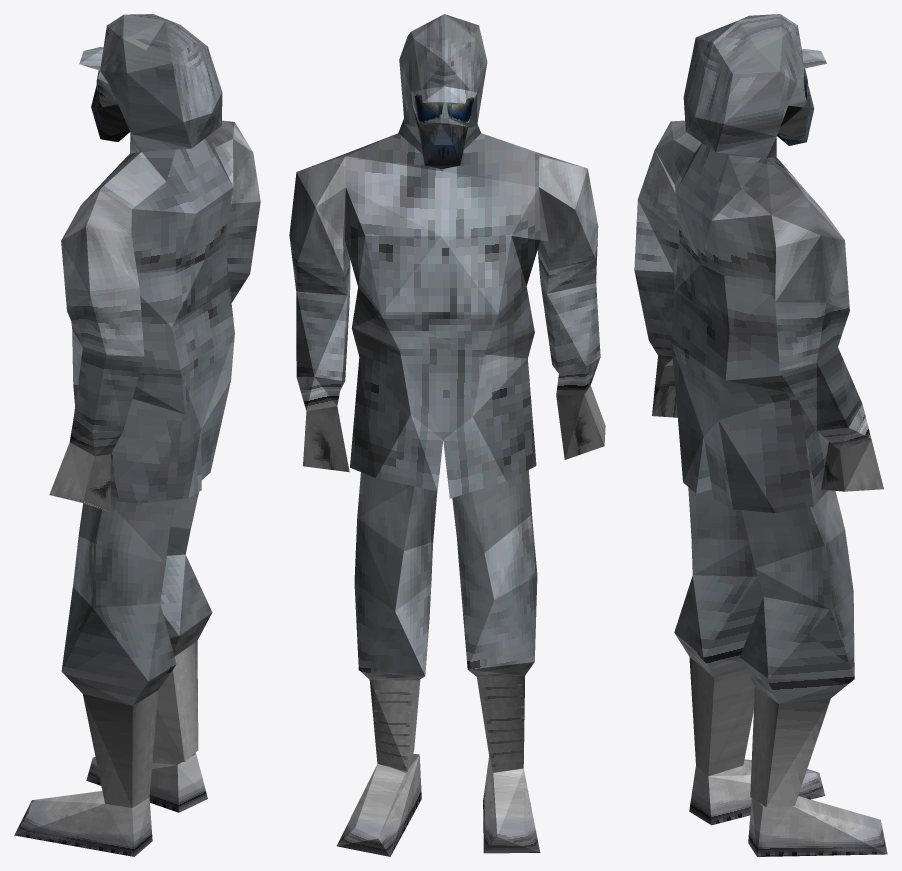
File: primary_020.glb
3 views of the same model, side by side, from view 1: azimuth 30°, elevation 25°; view 2: azimuth 150°, elevation 25°; view 3: azimuth 270°, elevation 25° (orthographic). The views are drawn at different scales.
Visible parts, largest first — view 1: Object; view 2: Object; view 3: Object.
Part boxes in pixels (left/top/right/bottom): Object: left=14, top=14, right=260, bottom=856; Object: left=289, top=14, right=605, bottom=856; Object: left=634, top=14, right=887, bottom=856.
Bounding box in the file's own units: 0.6871 × 2.08 × 0.583.
Materials: 71 (71 with a texture image).
